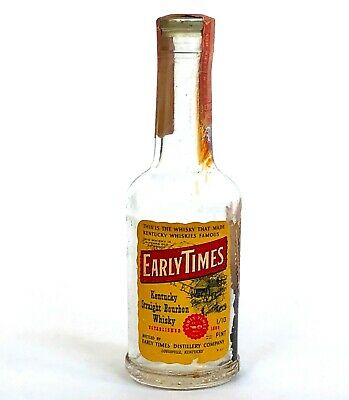bottle: (122, 12, 243, 393)
